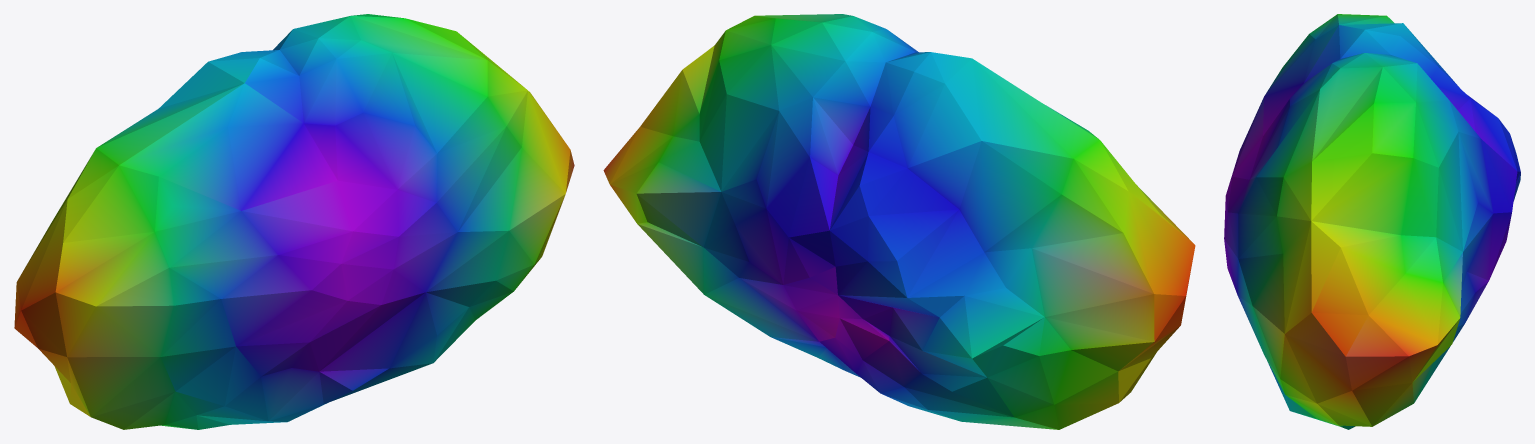
The model's file is Prometheus-Lo.fbx.
The picture shows the model from 3 angles, left to right: view 1: azimuth 30°, elevation 25°; view 2: azimuth 150°, elevation 25°; view 3: azimuth 270°, elevation 25°; orthographic projection.
Visible parts, largest first — view 1: Prometheus-Lo; view 2: Prometheus-Lo; view 3: Prometheus-Lo.
Part boxes in pixels (x1,y1,x2,y2): Prometheus-Lo: (14,14,574,429); Prometheus-Lo: (603,14,1195,429); Prometheus-Lo: (1224,14,1520,429).
Bounding box in the file's own units: 6816 × 9291 × 14751.
